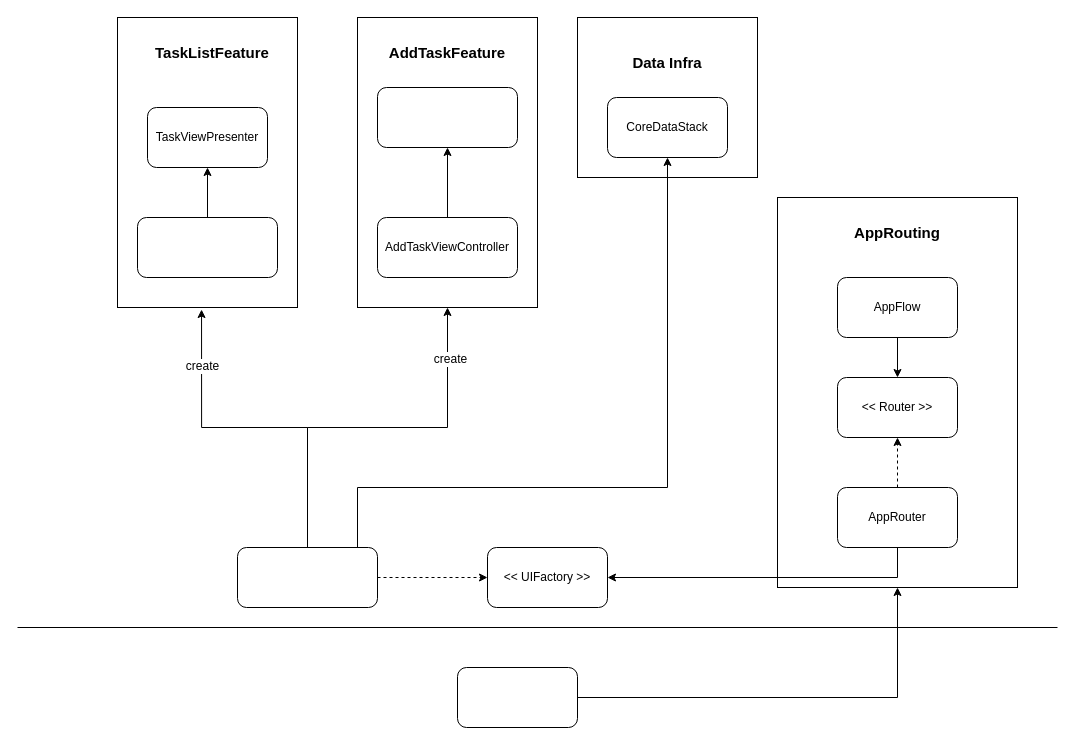
This 1076x745 diagram has some shape labels left out. Each missing label, with the centre of its shape:
"AddTaskViewPresenter" belongs at (x=447, y=117).
"SceneDelegate" belongs at (x=517, y=697).
"TaskViewController" belongs at (x=207, y=247).
"ViewControllerFactory" belongs at (x=307, y=577).
